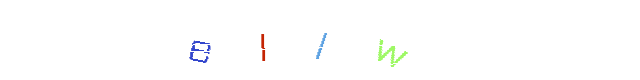E: (191, 0, 271, 80)
L: (222, 0, 302, 80), (280, 0, 360, 80)
W: (350, 0, 430, 80)
